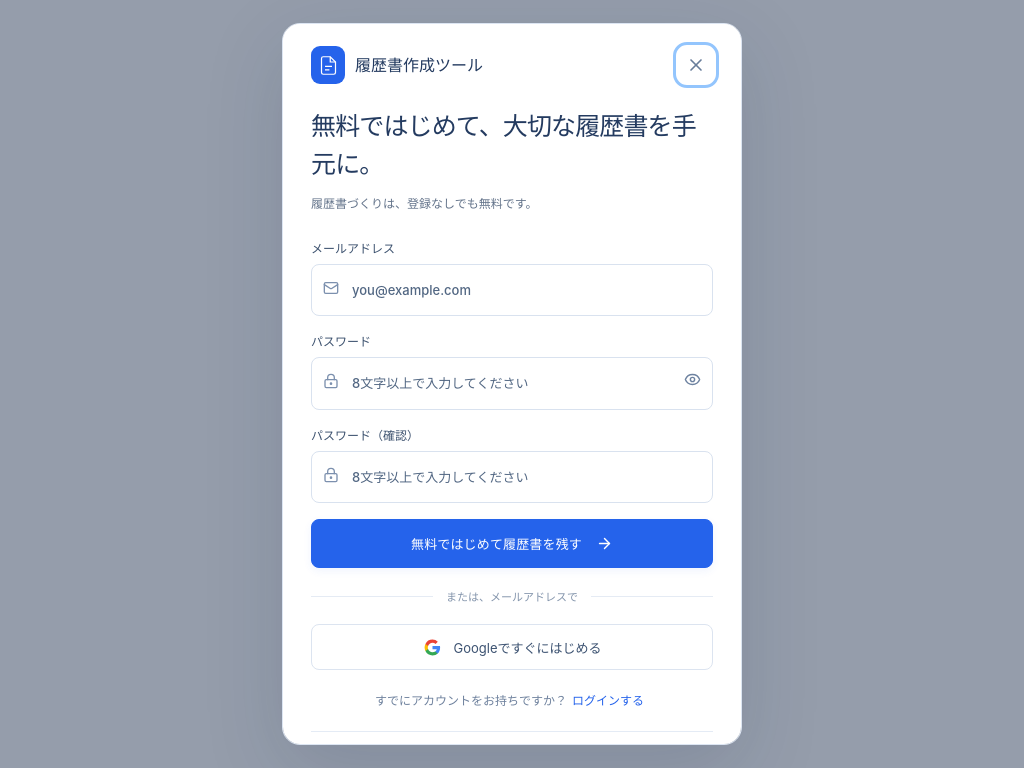
Test: optional account authentication › submits email/password signup and explains email confirmation
The image size is (1024, 768).
In the field labelled "メールアドレス": (512, 290) 311,264 -> 713,316, type "new@example.test"
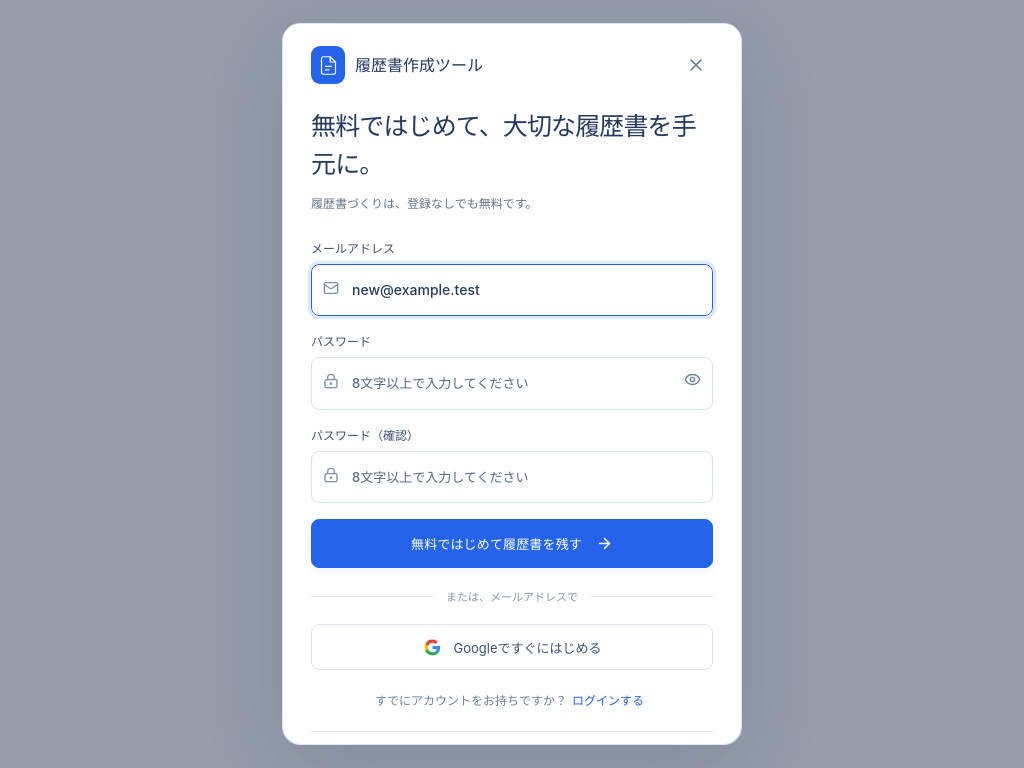
In the password field labelled "パスワード": (512, 384) 311,357 -> 713,410, type "test-password-123"
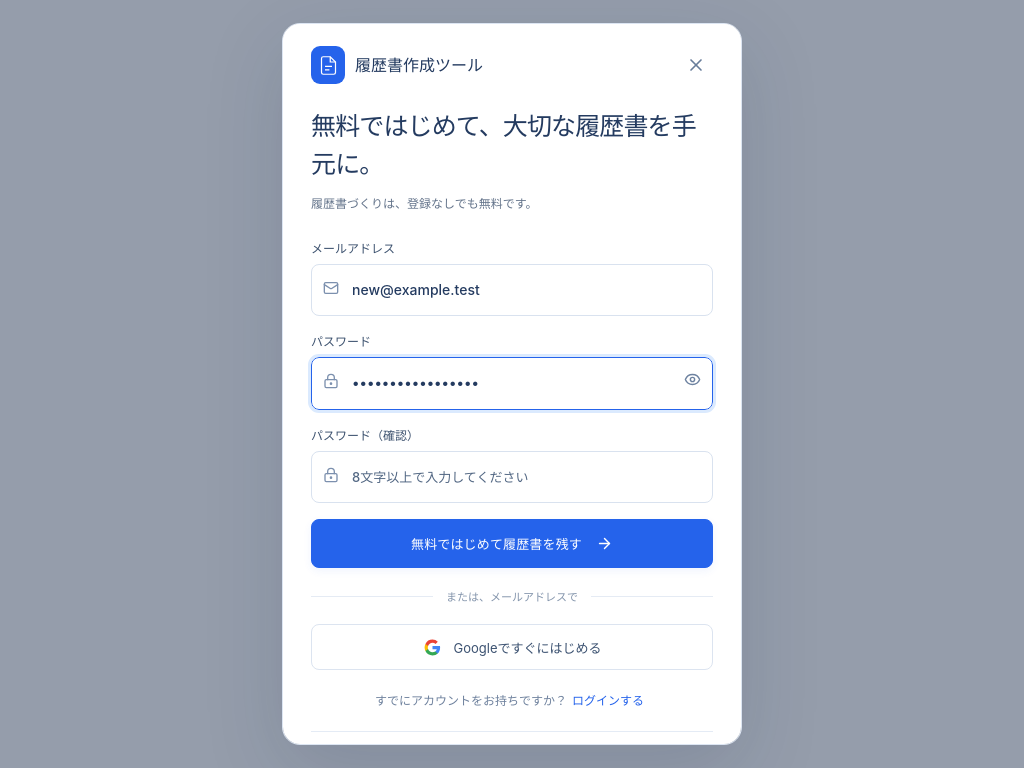
In the password field labelled "パスワード（確認）": (512, 477) 311,451 -> 713,503, type "test-password-123"
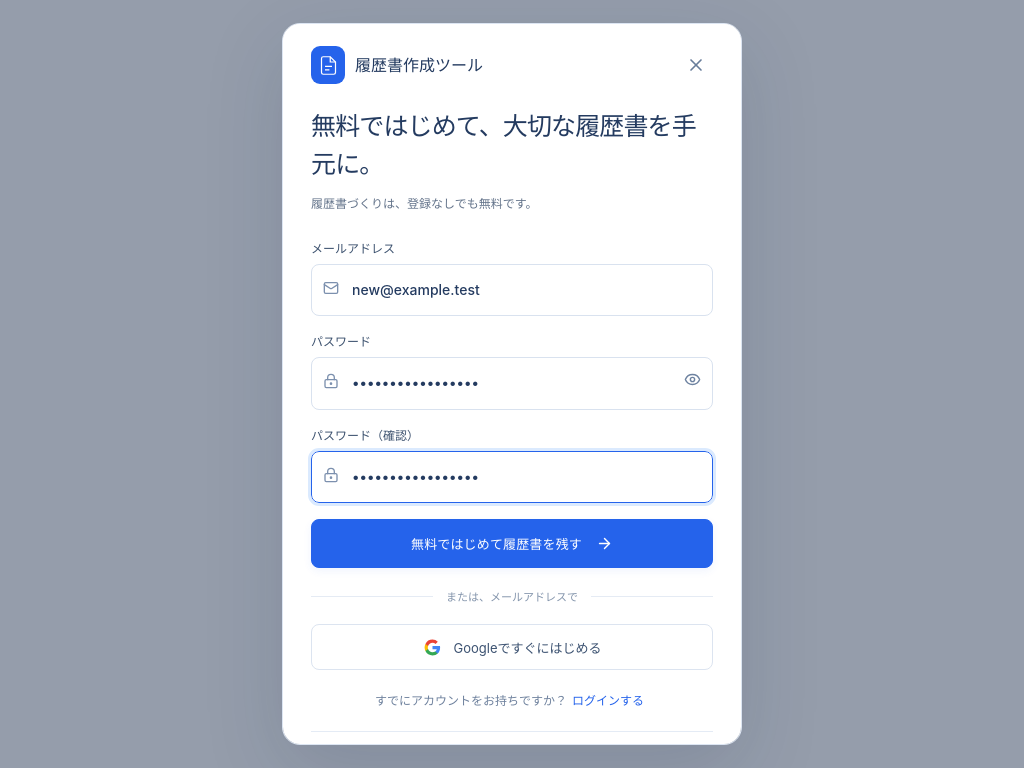
Click the button "無料ではじめて履歴書を残す": (512, 544) 311,519 -> 713,568
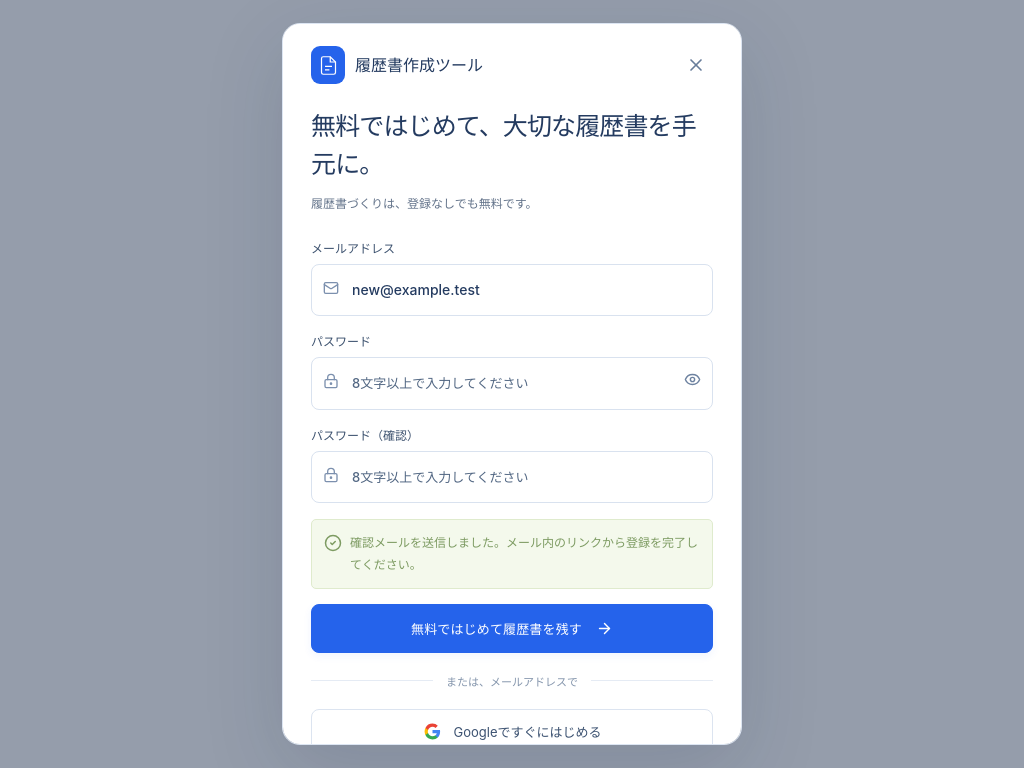
Check: the text "確認メールを送信しました。メール内のリンクから登録を完了してください。" is shown, box 311,519 -> 713,589
Check: the password field labelled "パスワード" is empty, box 311,357 -> 713,410
